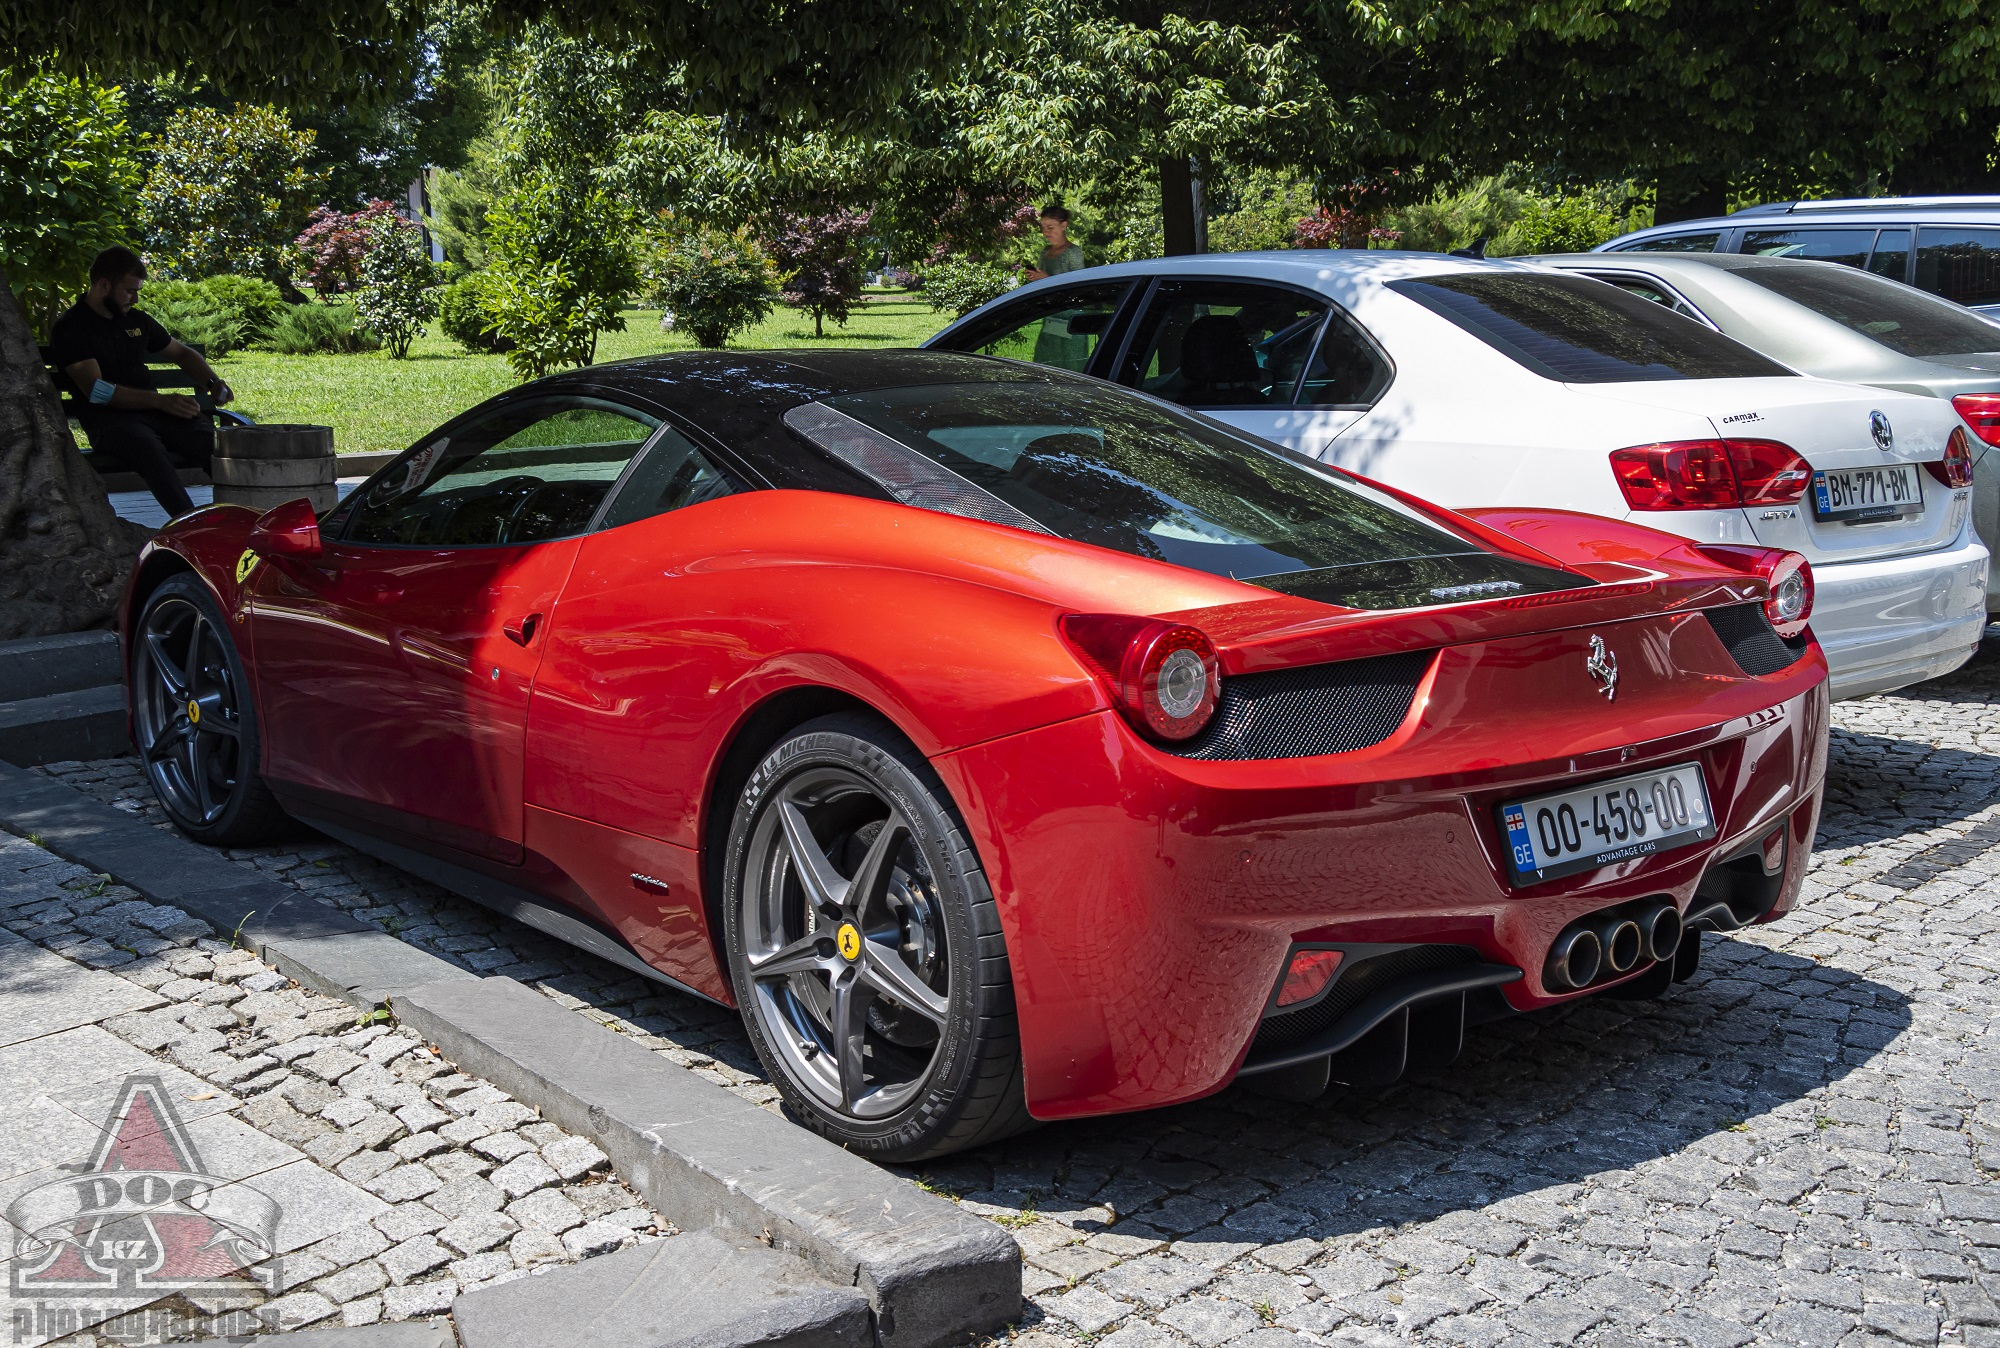plaka: (1500, 756, 1719, 894), (1809, 460, 1928, 525)
